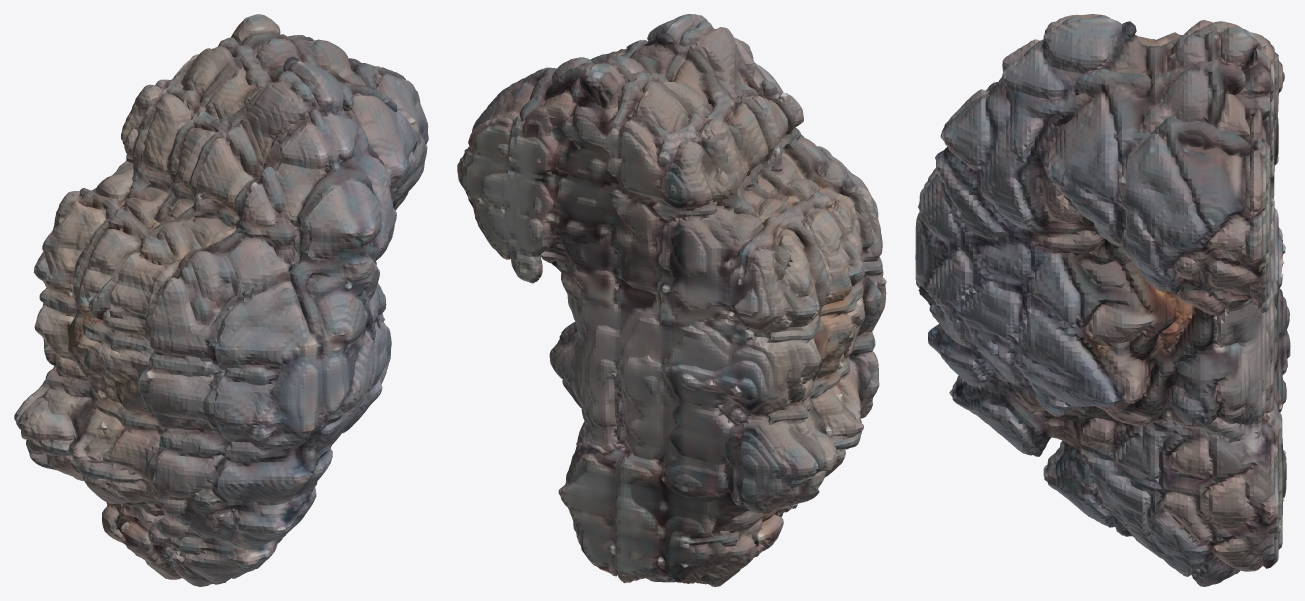
File: faultbreaker.glb
The picture shows the model from 3 angles, left to right: view 1: azimuth 30°, elevation 25°; view 2: azimuth 150°, elevation 25°; view 3: azimuth 270°, elevation 25°; orthographic projection. The views are drawn at different scales.
Parts seen in each view (by area): view 1: geometry_0; view 2: geometry_0; view 3: geometry_0.
Part boxes in pixels (x1=…): geometry_0: x1=14, y1=14, x2=428, y2=586; geometry_0: x1=457, y1=14, x2=886, y2=586; geometry_0: x1=915, y1=14, x2=1290, y2=586.
Size of the model in its own units: 0.7914 by 1.05 by 0.6194.
